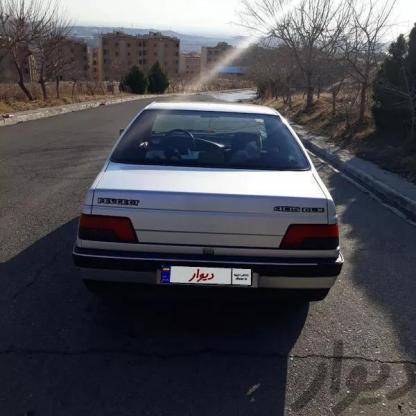Car: (53, 97, 347, 329)
